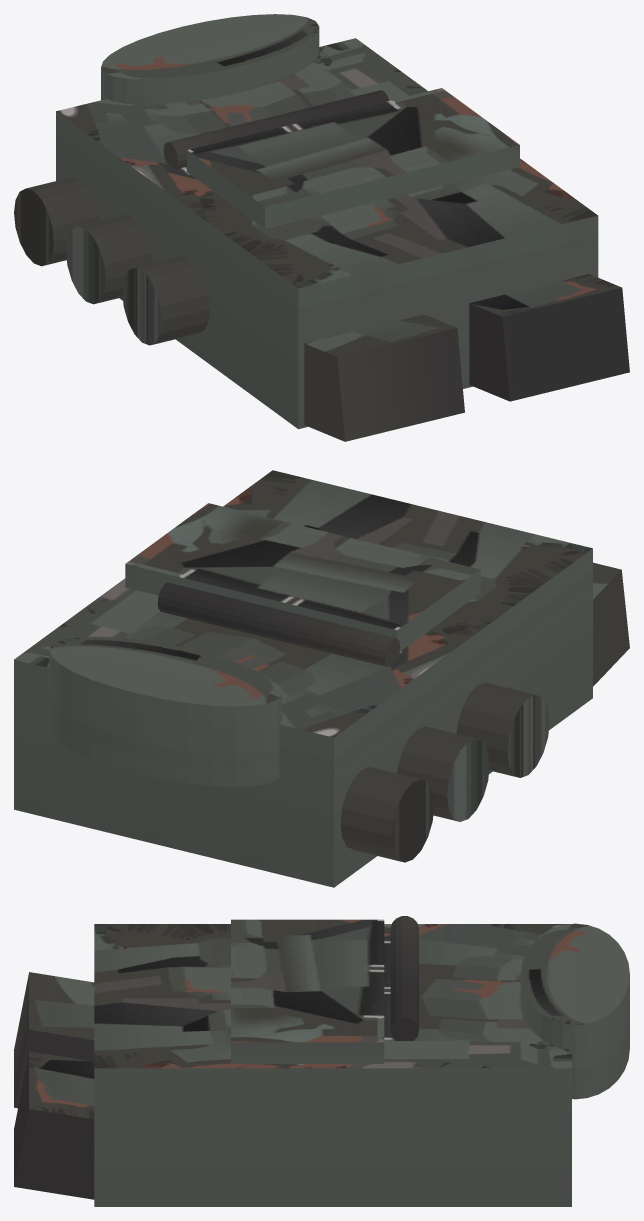
File: Building_AncientWarwalkerTorso.glb
3 renders of one model, top to bottom at view 1: azimuth 30°, elevation 25°; view 2: azimuth 150°, elevation 25°; view 3: azimuth 270°, elevation 25°, orthographic. The views are drawn at different scales.
Parts seen in each view (by area): view 1: AncientWarwalkerTorso; view 2: AncientWarwalkerTorso; view 3: AncientWarwalkerTorso.
Boxes of the visible parts, <box> form: AncientWarwalkerTorso: <box>14,14,629,441</box>; AncientWarwalkerTorso: <box>14,470,629,887</box>; AncientWarwalkerTorso: <box>14,916,629,1206</box>.
Size of the model in its own units: 3.62 by 1.65 by 5.64.
Materials: 1 (1 with a texture image).
